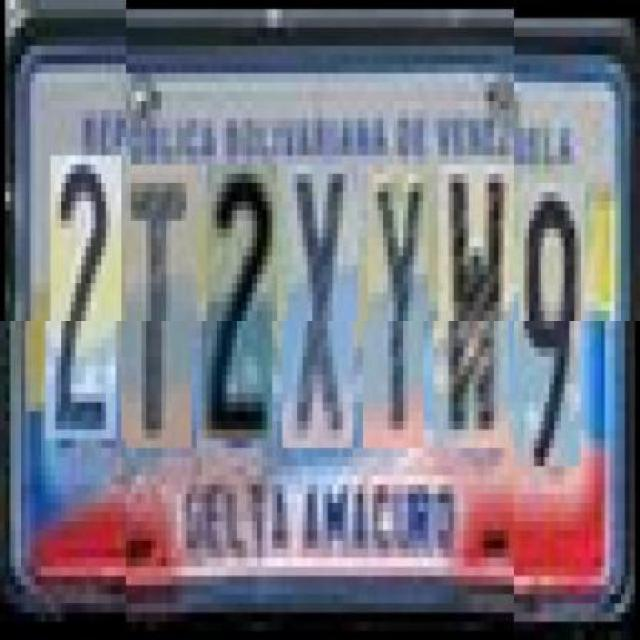2: (50, 165, 121, 448), (207, 164, 278, 439)
9: (520, 173, 586, 458)
t: (126, 165, 197, 448)
w: (438, 165, 514, 448)
x: (287, 165, 358, 448)
y: (368, 165, 428, 448)
